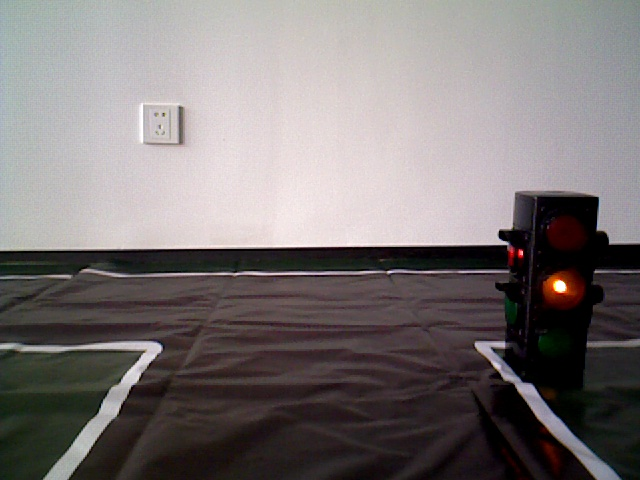yellow: (513, 188, 607, 357)
